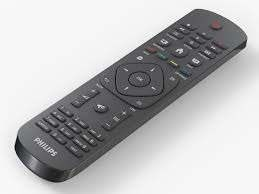remote control: (1, 3, 249, 191)
